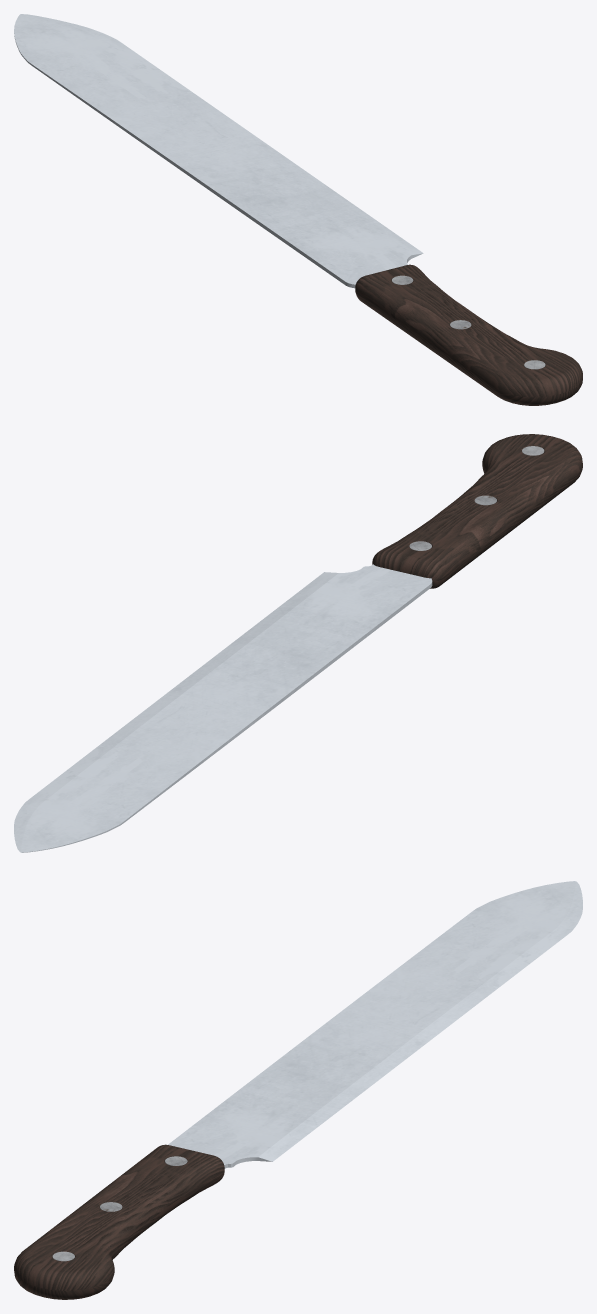
Rendered from knife-bread01.fbx.
3 renders of one model, top to bottom at view 1: azimuth 30°, elevation 25°; view 2: azimuth 150°, elevation 25°; view 3: azimuth 330°, elevation 25°, orthographic. The views are drawn at different scales.
Visible parts, largest first — view 1: knife_bread01; view 2: knife_bread01; view 3: knife_bread01.
Part boxes in pixels (x1,y1,x2,y2): knife_bread01: (14, 14, 582, 405); knife_bread01: (14, 434, 582, 852); knife_bread01: (14, 881, 582, 1299).
Size of the model in its own units: 2.11 by 0.5142 by 18.93.
